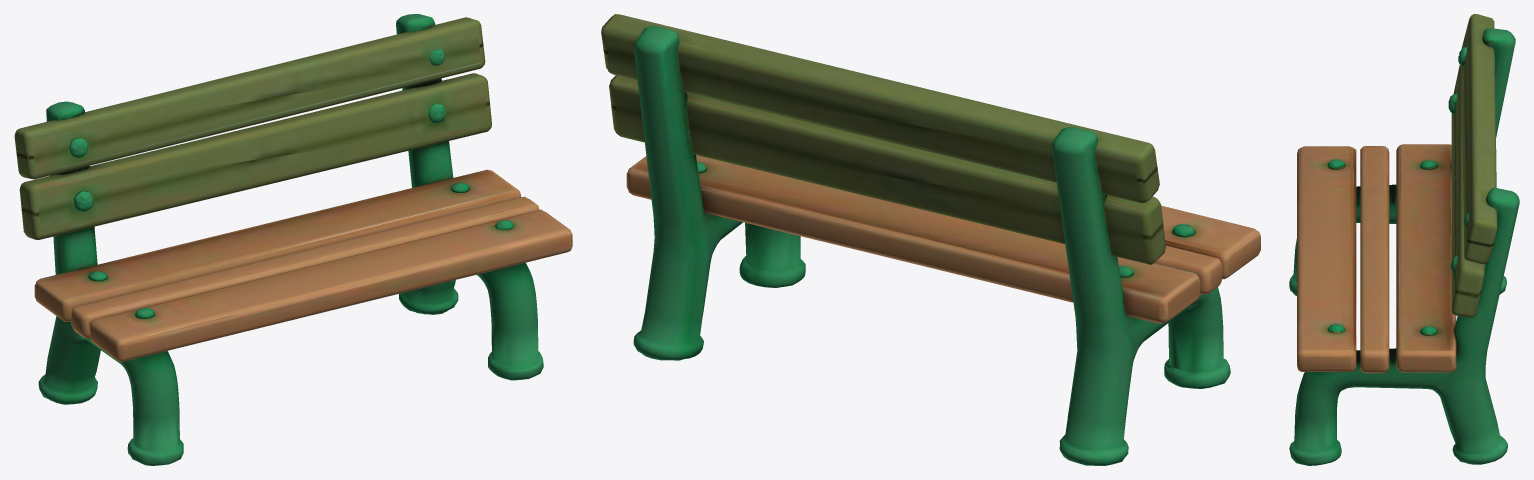
File: prop_bench.glb
The picture shows the model from 3 angles, left to right: view 1: azimuth 30°, elevation 25°; view 2: azimuth 150°, elevation 25°; view 3: azimuth 270°, elevation 25°; orthographic projection. The views are drawn at different scales.
Visible parts, largest first — view 1: tripo_node_dfcc47c3-94ea-4f7b-917e-b673ea62cf98; view 2: tripo_node_dfcc47c3-94ea-4f7b-917e-b673ea62cf98; view 3: tripo_node_dfcc47c3-94ea-4f7b-917e-b673ea62cf98.
Boxes of the visible parts, x1,y1,x2,y2 form: tripo_node_dfcc47c3-94ea-4f7b-917e-b673ea62cf98: (14, 14, 572, 465); tripo_node_dfcc47c3-94ea-4f7b-917e-b673ea62cf98: (601, 14, 1260, 465); tripo_node_dfcc47c3-94ea-4f7b-917e-b673ea62cf98: (1289, 14, 1519, 465).
Size of the model in its own units: 0.998 by 0.5879 by 0.4629.
1 material, 1 textured.
